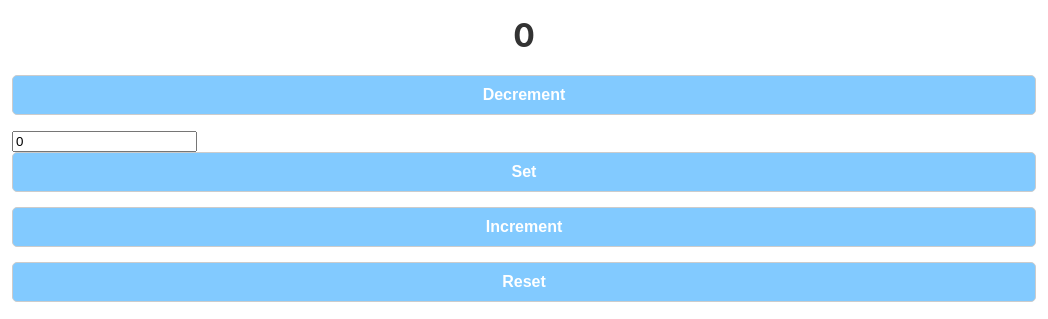
Test case: Counter component › renders a count of -1 after clicking the decrement button
Step 1. Click the button "Decrement" → [524, 95], box left=12, top=75, right=1036, bottom=115
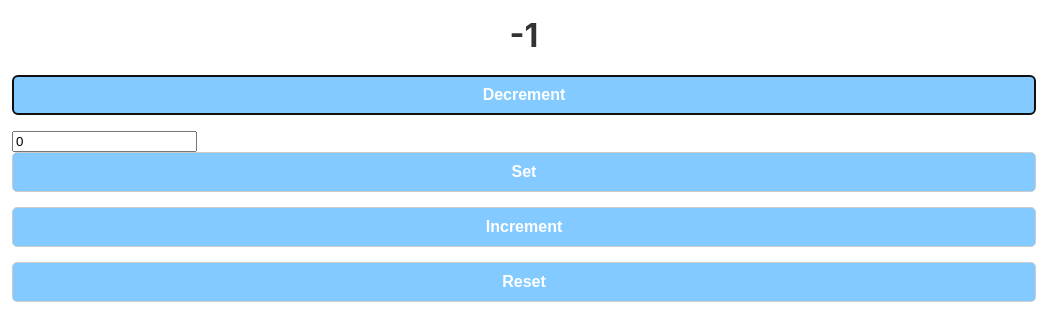
Expected: the heading reads "-1", left=510, top=16, right=538, bottom=55
